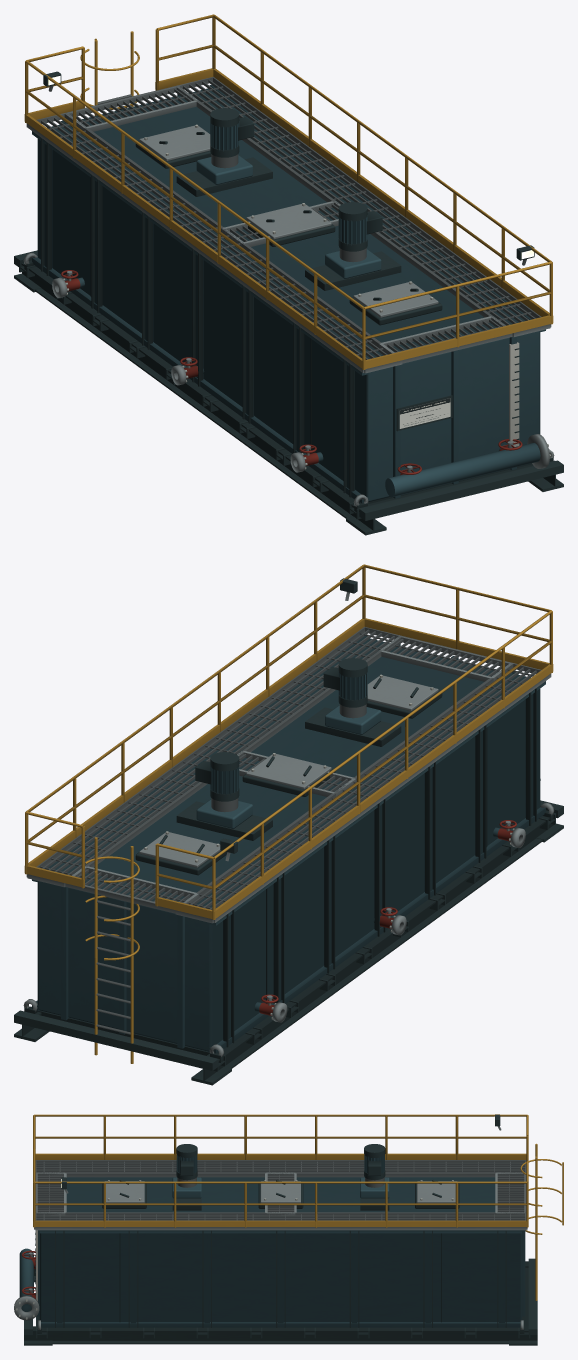
The model's file is mud_tank_single_lodh.glb.
3 renders of one model, top to bottom at view 1: azimuth 30°, elevation 25°; view 2: azimuth 150°, elevation 25°; view 3: azimuth 270°, elevation 25°, orthographic. The views are drawn at different scales.
Visible parts, largest first — view 1: tank_shell_blue, walkway_steel, handrails_yellow, skid_dark, external_stiffeners_blue, external_stiffeners_dark, access_hatches_steel, suction_header_blue, agitator_1_dark, agitator_2_dark, access_hatches_dark, agitator_2_blue (+6 smaller); view 2: tank_shell_blue, walkway_steel, handrails_yellow, skid_dark, external_stiffeners_blue, external_stiffeners_dark, access_hatches_steel, agitator_2_dark, agitator_1_dark, access_ladder_yellow, access_hatches_dark, agitator_1_blue (+4 smaller); view 3: tank_shell_blue, walkway_steel, handrails_yellow, skid_dark, external_stiffeners_blue, external_stiffeners_dark, access_hatches_steel, agitator_1_dark, agitator_2_dark, access_ladder_yellow, access_hatches_dark, suction_header_blue (+3 smaller).
Boxes of the visible parts, x1,y1,x2,y2 form: tank_shell_blue: (37,88,540,501); walkway_steel: (26,76,551,373); handrails_yellow: (24,14,553,369); skid_dark: (14,250,563,535); external_stiffeners_blue: (32,85,545,503); external_stiffeners_dark: (41,138,354,497); access_hatches_steel: (139,125,438,317); suction_header_blue: (385,443,540,497); agitator_1_dark: (176,108,272,196); agitator_2_dark: (305,202,401,290); access_hatches_dark: (135,132,442,325); agitator_2_blue: (325,215,381,278); tank_shell_blue: (37,638,540,1051); walkway_steel: (26,626,551,923); handrails_yellow: (24,564,553,919); skid_dark: (14,800,563,1085); external_stiffeners_blue: (32,635,545,1053); external_stiffeners_dark: (223,688,536,1047); access_hatches_steel: (139,675,438,867); agitator_2_dark: (305,658,401,746); agitator_1_dark: (176,752,272,840); access_ladder_yellow: (85,837,139,1063); access_hatches_dark: (135,678,442,875); agitator_1_blue: (196,765,252,828); tank_shell_blue: (39,1177,521,1321); walkway_steel: (34,1160,527,1230); handrails_yellow: (33,1114,528,1227); skid_dark: (24,1258,537,1345); external_stiffeners_blue: (36,1230,525,1327); external_stiffeners_dark: (55,1230,506,1327); access_hatches_steel: (105,1181,456,1203); agitator_1_dark: (360,1144,389,1210); agitator_2_dark: (172,1144,201,1210); access_ladder_yellow: (520,1143,563,1300); access_hatches_dark: (102,1179,459,1208); suction_header_blue: (19,1248,33,1311).
Bounding box in the file's own units: 4 × 4 × 12.31.
Materials: 9 (9 with a texture image).
